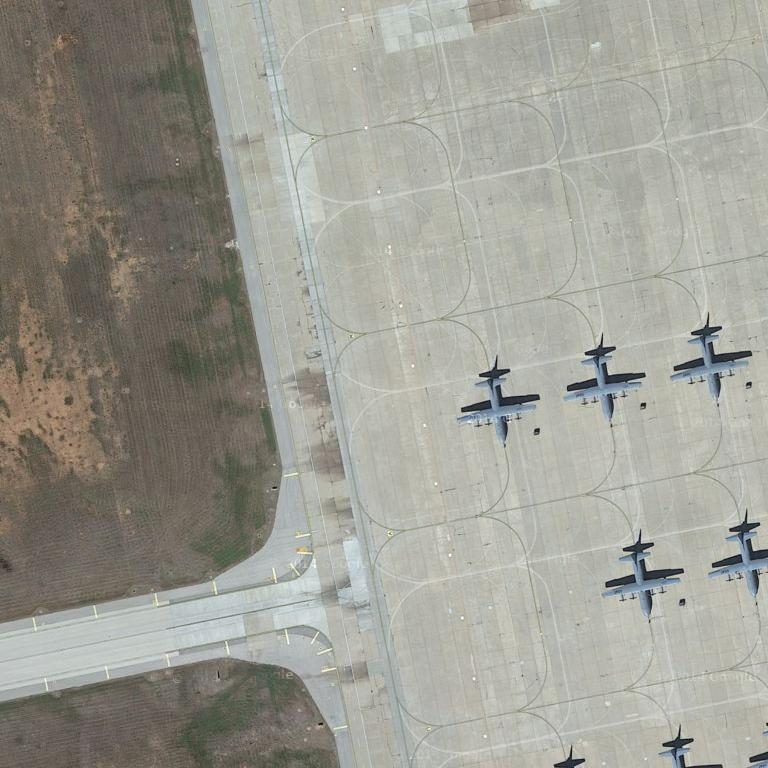C-130: (454, 373, 538, 444), (562, 351, 642, 424), (600, 547, 680, 620), (669, 332, 750, 404), (707, 527, 768, 597)
